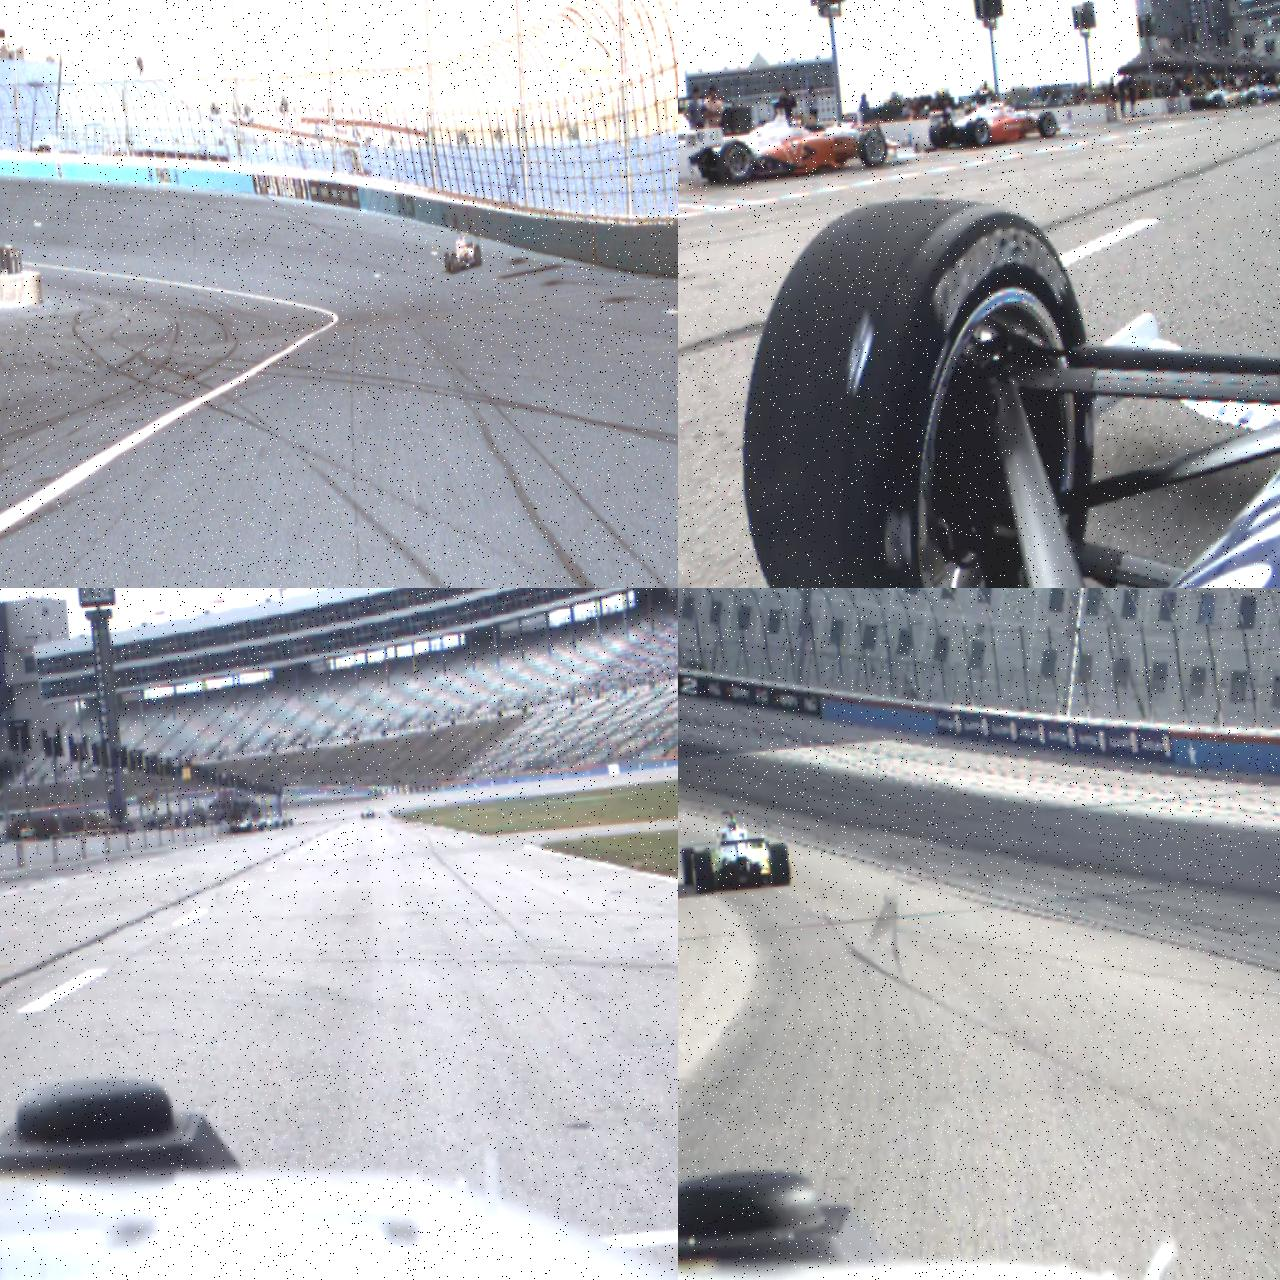AV: (683, 87, 918, 190), (925, 74, 1070, 151), (678, 805, 794, 896), (442, 226, 483, 273), (361, 806, 375, 819)
Wheel: (720, 184, 1123, 588), (720, 138, 756, 186), (856, 129, 890, 169), (690, 851, 715, 894), (769, 842, 791, 887), (964, 116, 992, 149), (928, 118, 955, 149), (680, 846, 697, 887), (1036, 110, 1058, 139), (1212, 94, 1225, 109), (474, 245, 482, 266), (1246, 93, 1258, 107), (450, 253, 458, 272), (444, 252, 451, 272)
